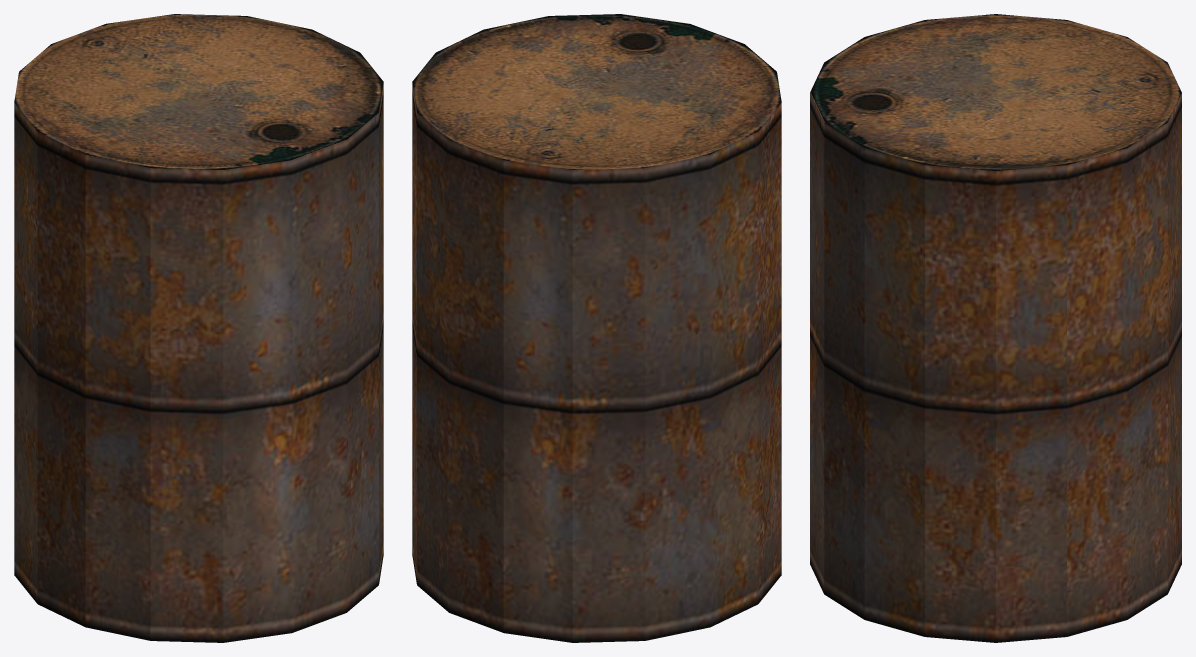
Rendered from barrel.dae.
3 renders of one model, left to right at view 1: azimuth 30°, elevation 25°; view 2: azimuth 150°, elevation 25°; view 3: azimuth 270°, elevation 25°, orthographic.
Visible parts, largest first — view 1: Cylinder; view 2: Cylinder; view 3: Cylinder.
Part boxes in pixels (box(x1,y1,x2,y2)): Cylinder: box(14, 14, 383, 642); Cylinder: box(412, 14, 781, 642); Cylinder: box(810, 14, 1181, 642).
Size of the model in its own units: 0.5 by 0.5 by 0.7.
Materials: 1 (1 with a texture image).
